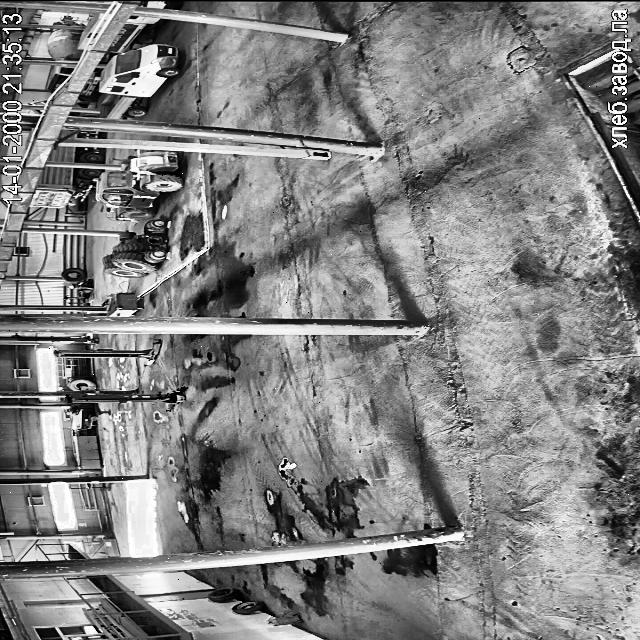car lift: (52, 340, 161, 365), (66, 388, 186, 410)
fire extinguisher: (268, 615, 300, 624)
tractor: (96, 151, 182, 220), (102, 220, 165, 276)
truck: (99, 44, 180, 118), (28, 168, 100, 208), (108, 16, 158, 52), (46, 20, 81, 60), (78, 12, 102, 48), (49, 147, 102, 163), (77, 68, 100, 103), (46, 66, 73, 92), (140, 0, 179, 8), (75, 132, 98, 141), (60, 130, 71, 136)
